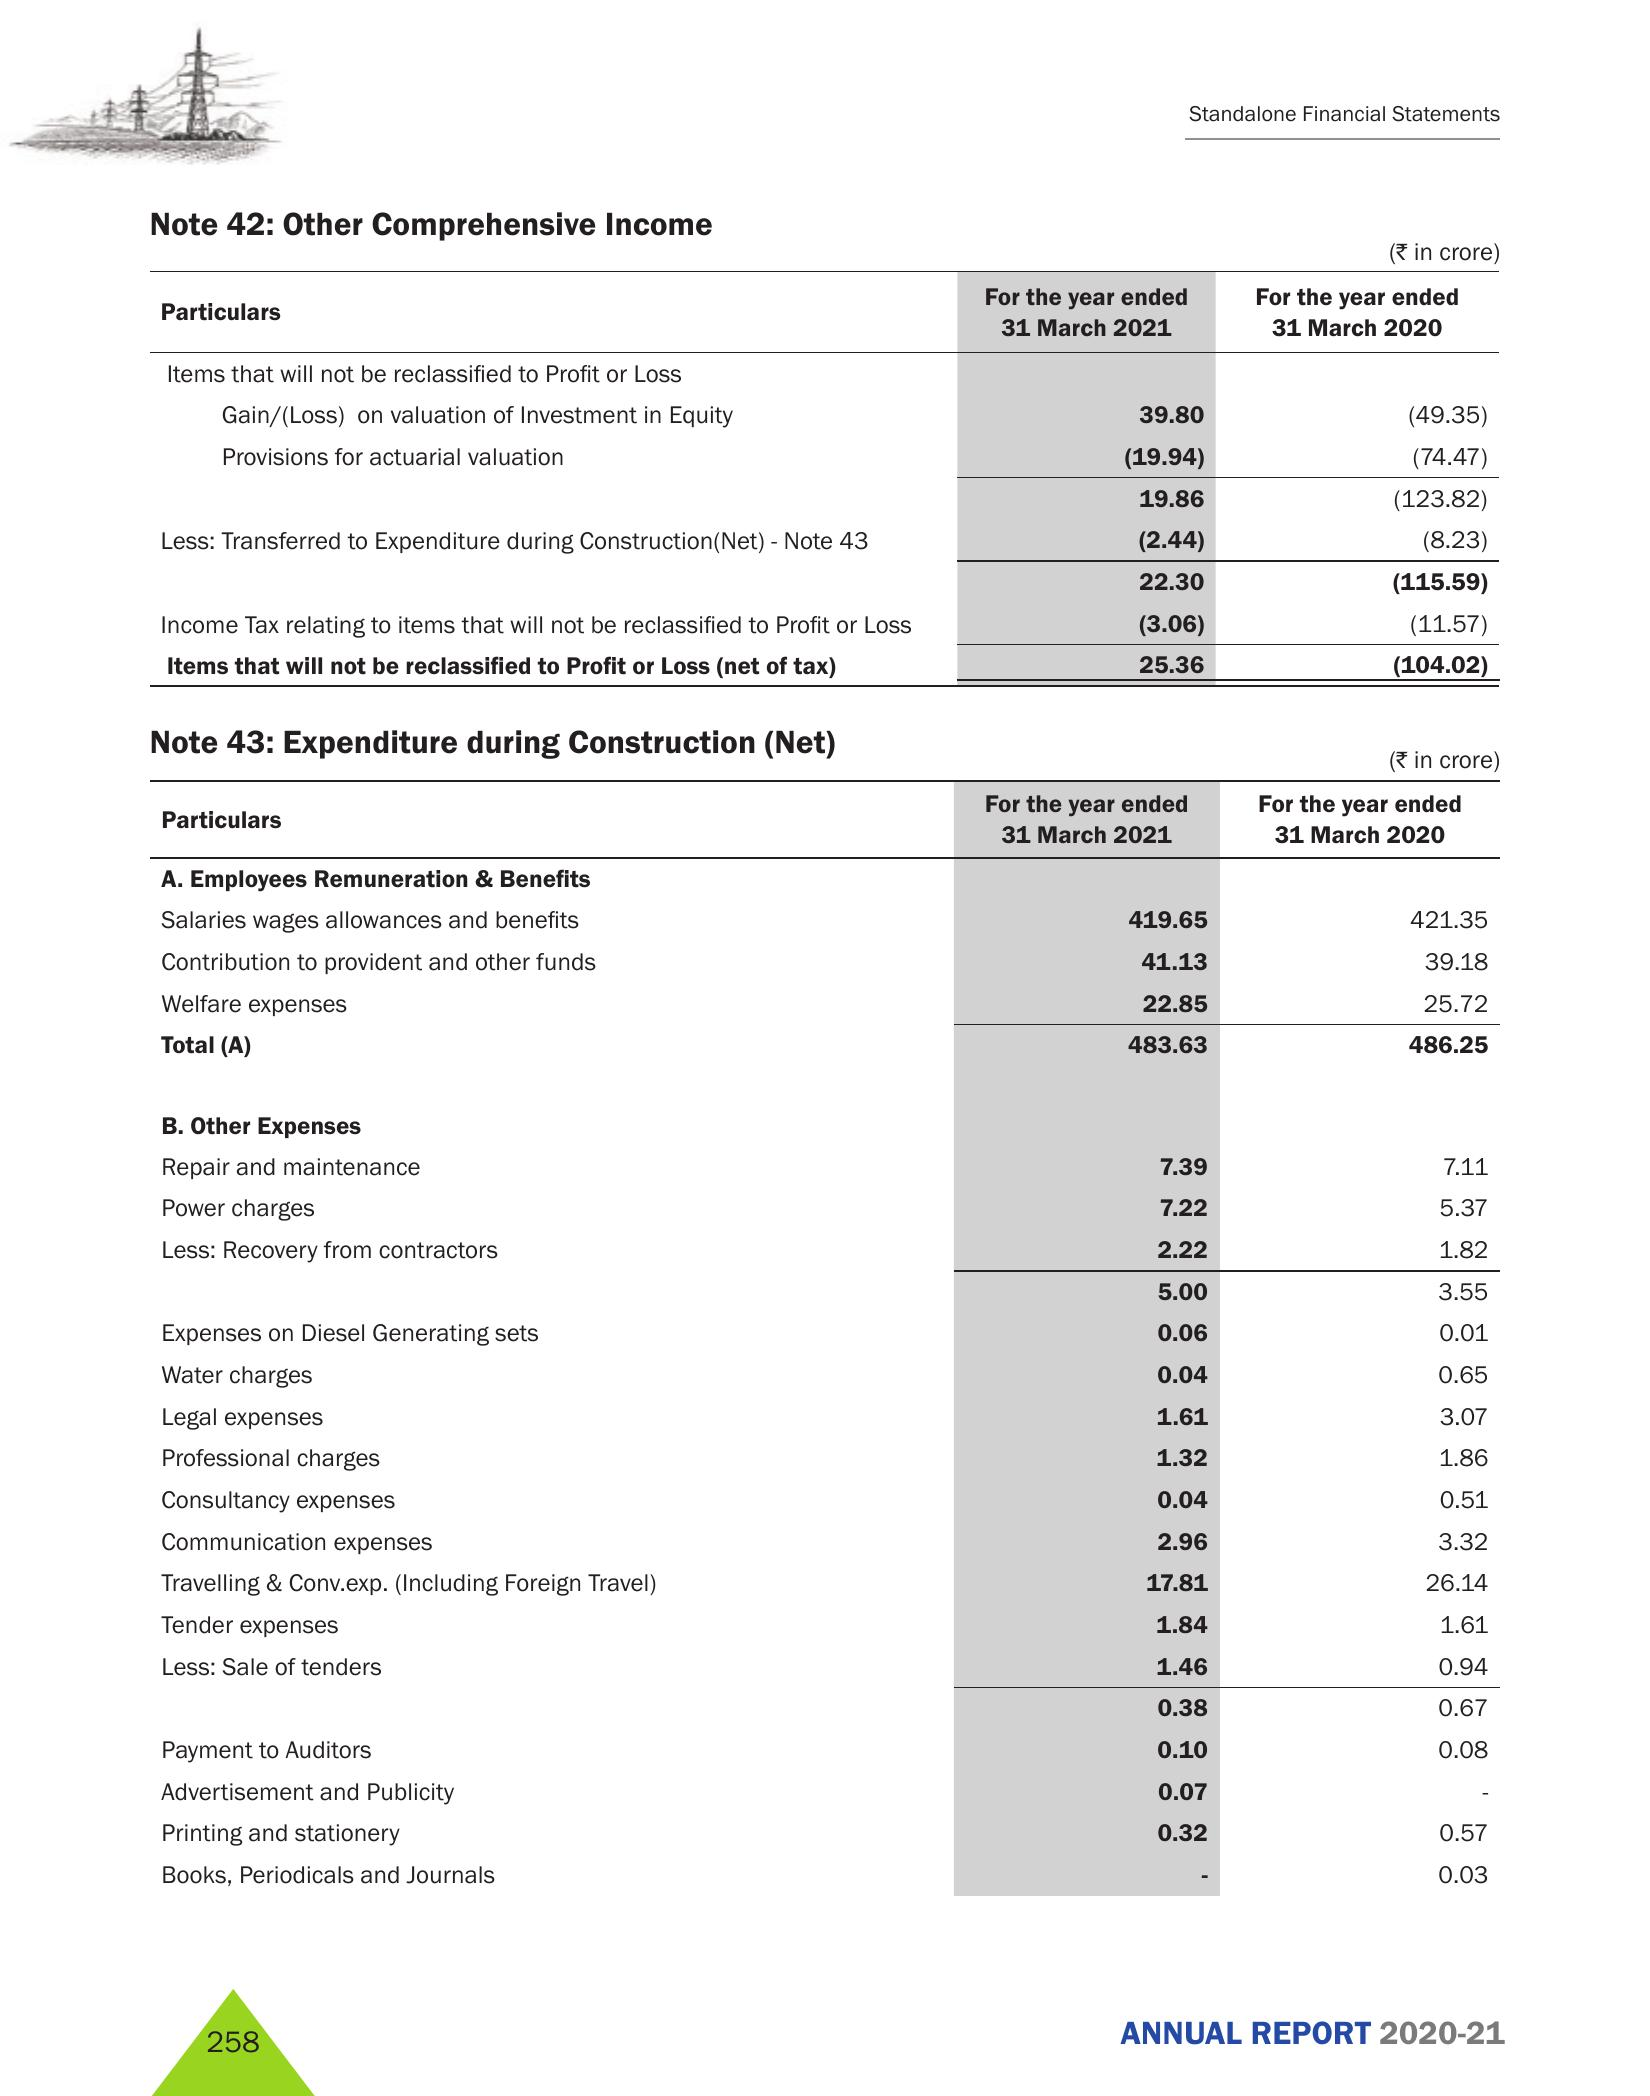Footer: (0, 1968, 1650, 2096)
Header: (0, 0, 1650, 180)
Table: (114, 779, 1524, 1900), (117, 274, 1511, 686)
